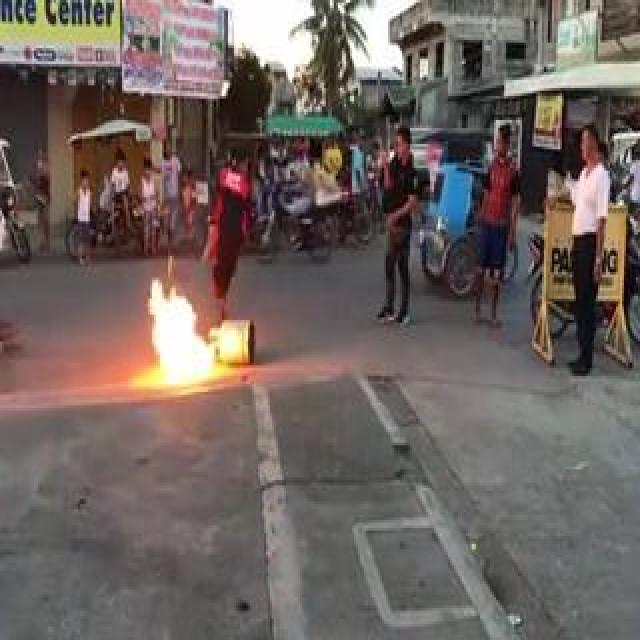Smoke: (81, 272, 152, 389)
